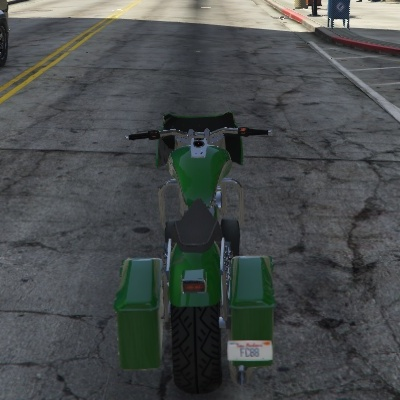off: (176, 267, 210, 300)
